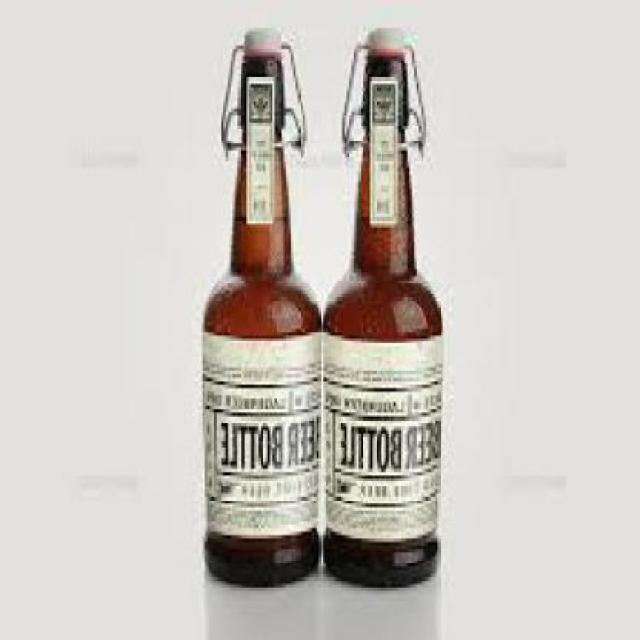GLASS: (326, 56, 445, 584), (207, 52, 324, 585)
PLASTIC: (370, 21, 412, 48), (249, 22, 286, 52)
